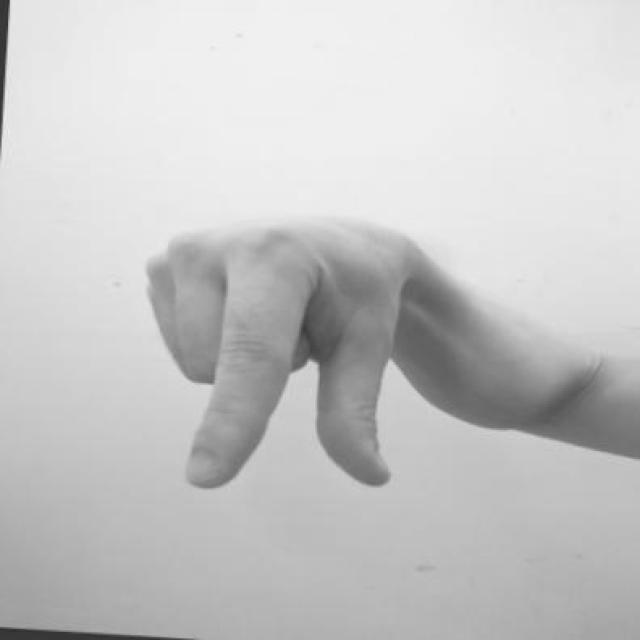Q: (117, 194, 421, 515)
